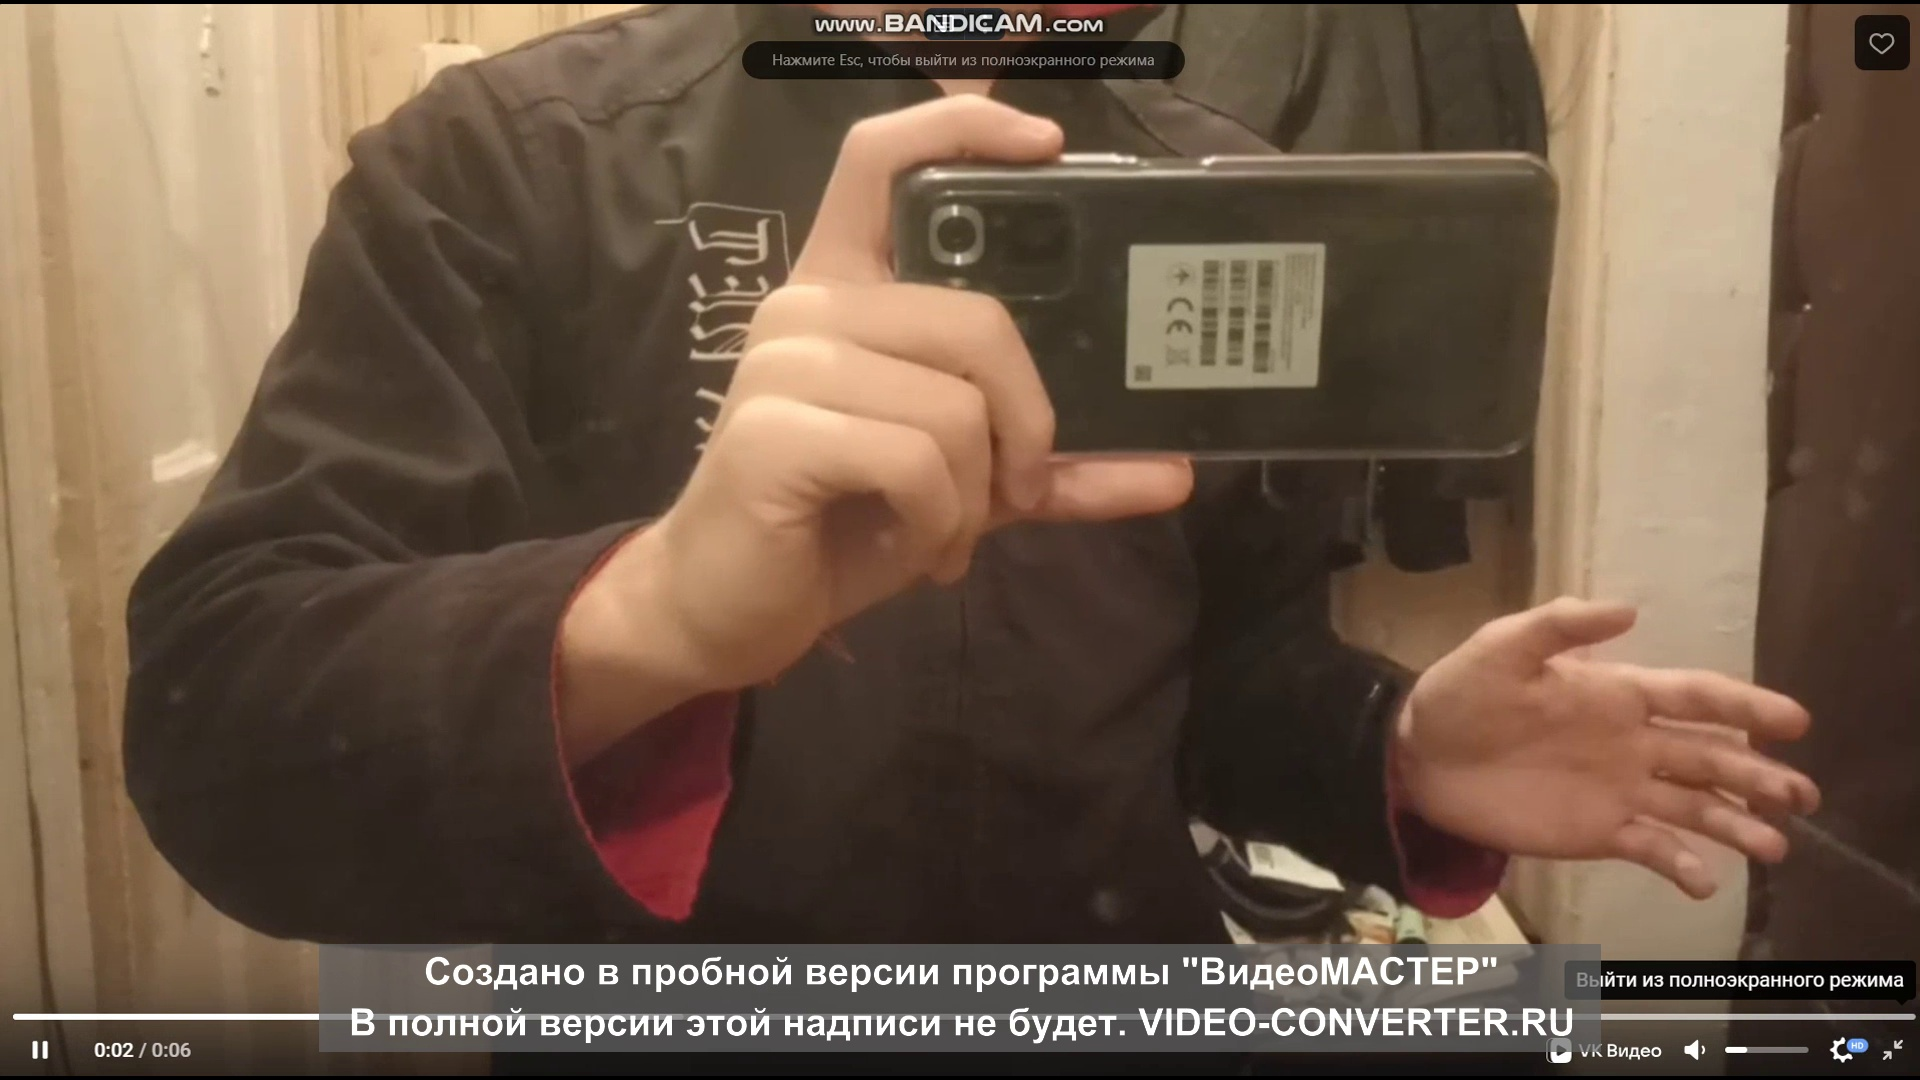Ладонь: (1412, 595, 1820, 898)
